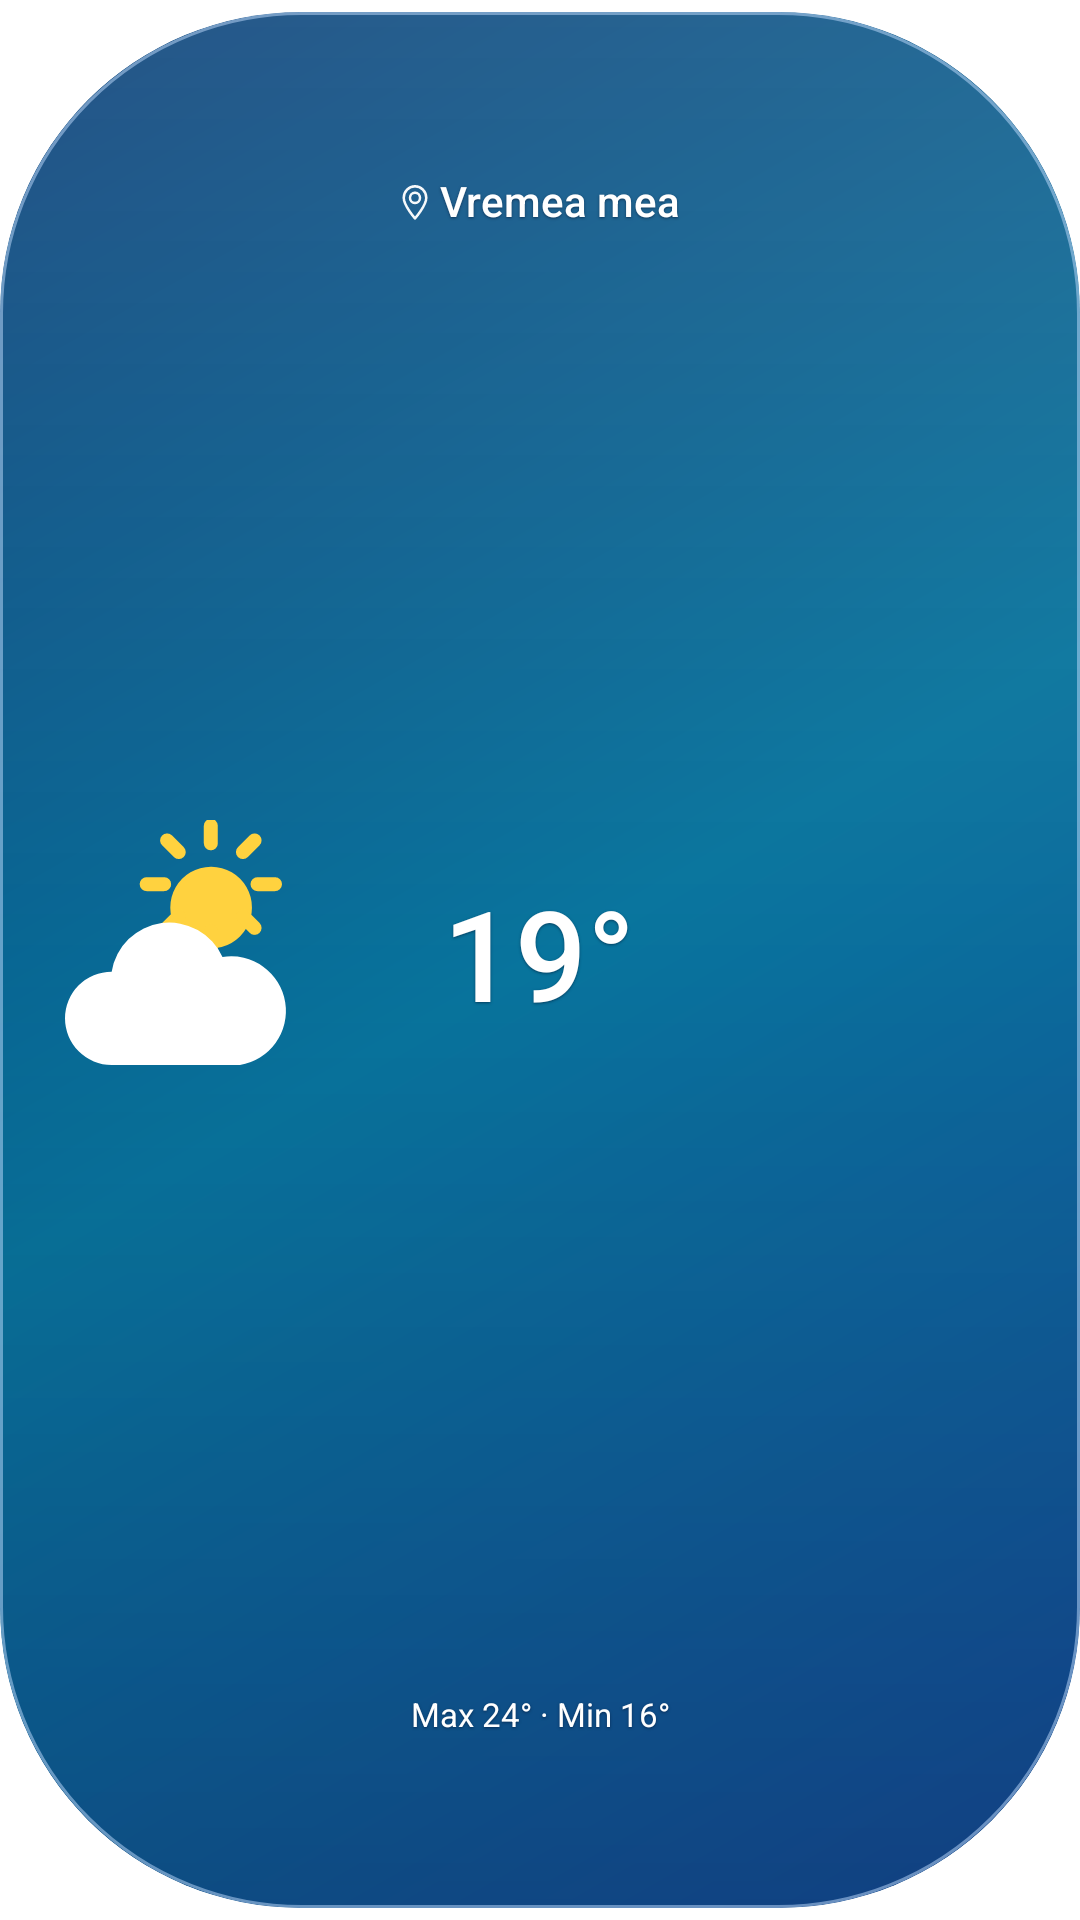

Screen size 1080px x 1920px. Icon name, then its center in pixels as (x=x, y=y):
partial: (x=175, y=942)
